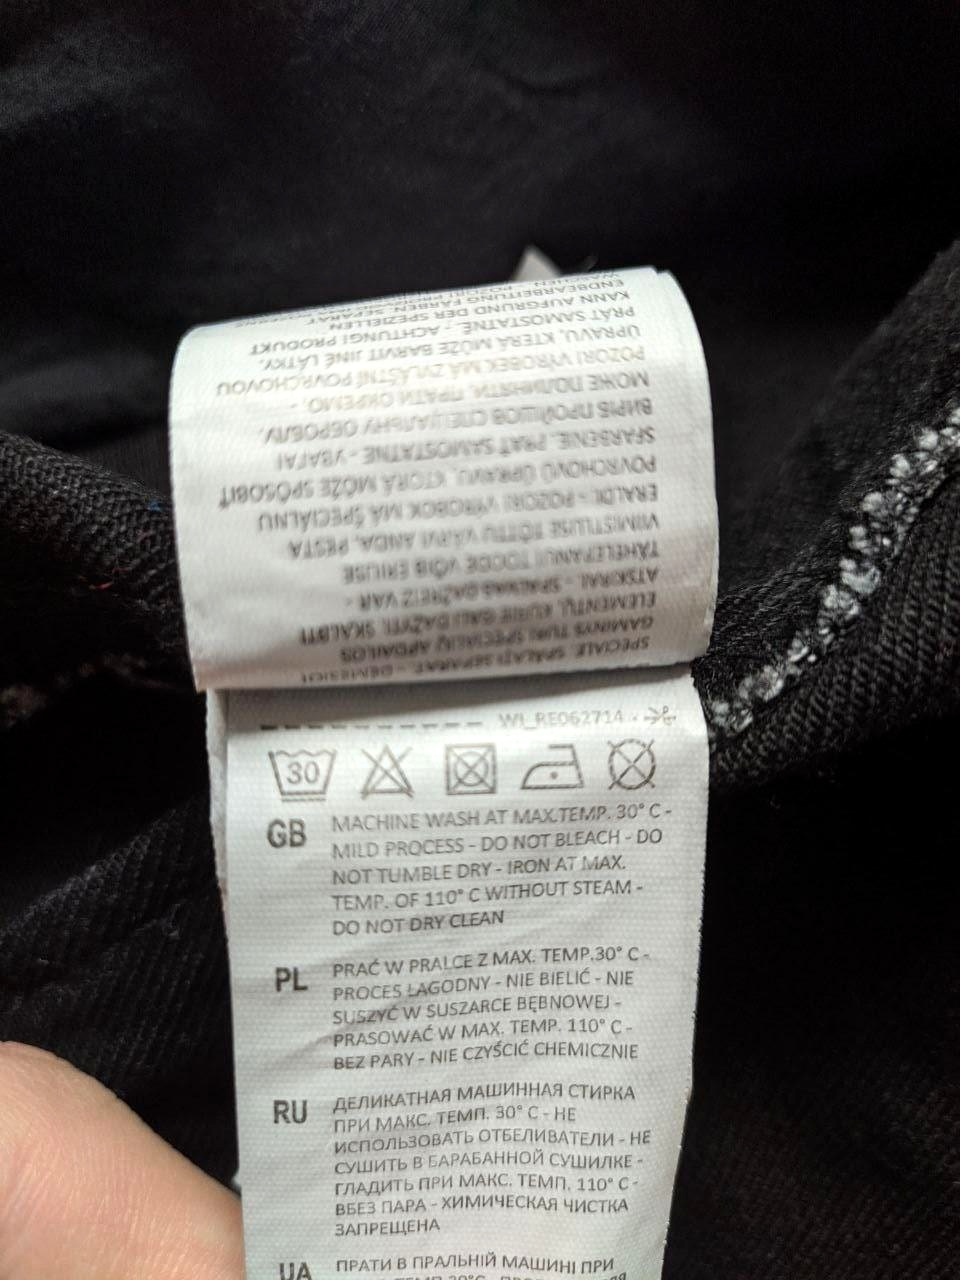30C: (264, 745, 341, 807)
DN_bleach: (357, 740, 422, 800)
DN_dry_clean: (599, 733, 664, 791)
DN_tumble_dry: (438, 738, 503, 803)
iron_low: (522, 738, 587, 795)
